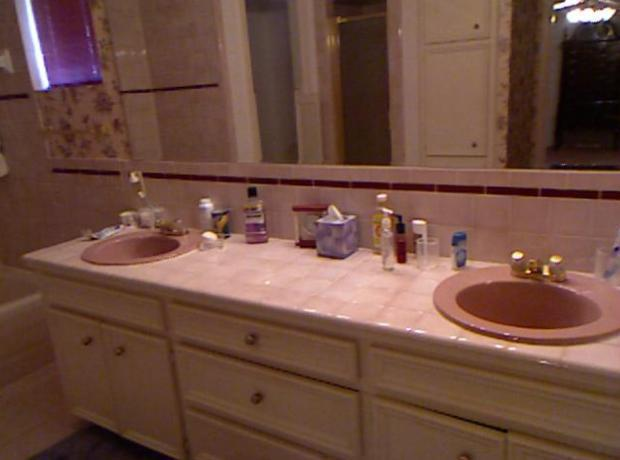Lavamanos: (425, 236, 619, 364), (71, 188, 220, 289)
